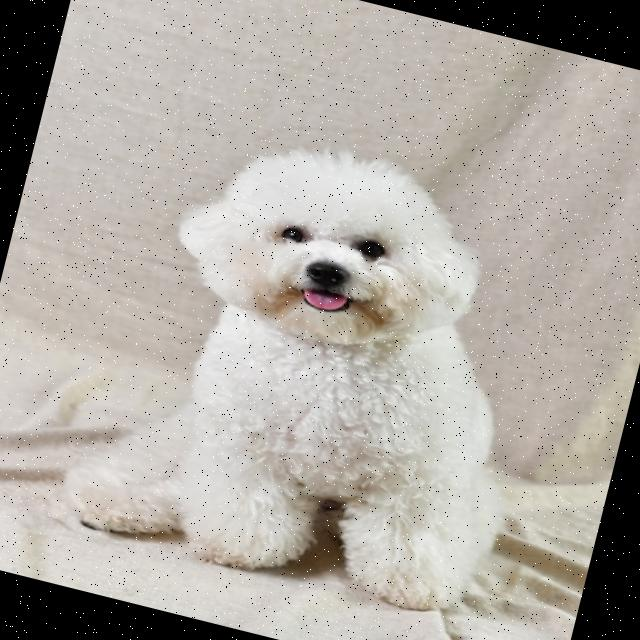Dog: (52, 103, 640, 640)
